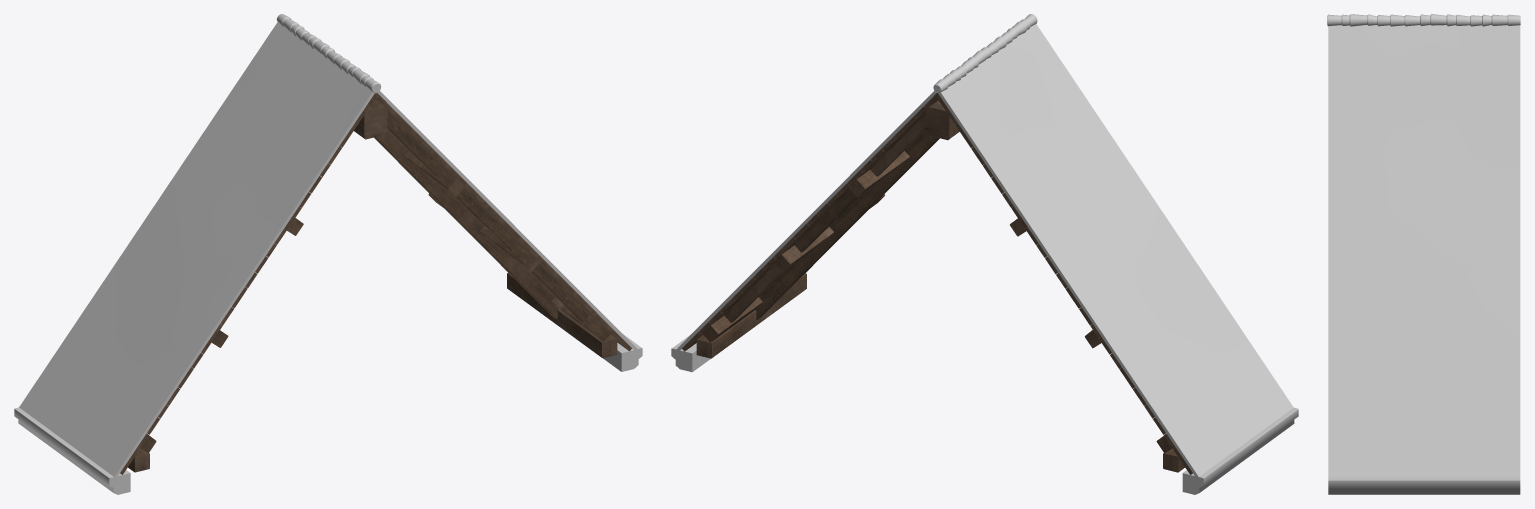
File: SM_Roof_12m_01.fbx
3 views of the same model, side by side, from view 1: azimuth 30°, elevation 25°; view 2: azimuth 150°, elevation 25°; view 3: azimuth 270°, elevation 25° (orthographic).
Visible parts, largest first — view 1: SM_Roof_12m_01_LOD0; view 2: SM_Roof_12m_01_LOD0; view 3: SM_Roof_12m_01_LOD0.
Part boxes in pixels (bbox=[...]): SM_Roof_12m_01_LOD0: bbox=[14, 14, 642, 494]; SM_Roof_12m_01_LOD0: bbox=[671, 14, 1298, 494]; SM_Roof_12m_01_LOD0: bbox=[1327, 14, 1520, 494].
Size of what is drawn, in the model's own units: 1294 by 812 by 403.
